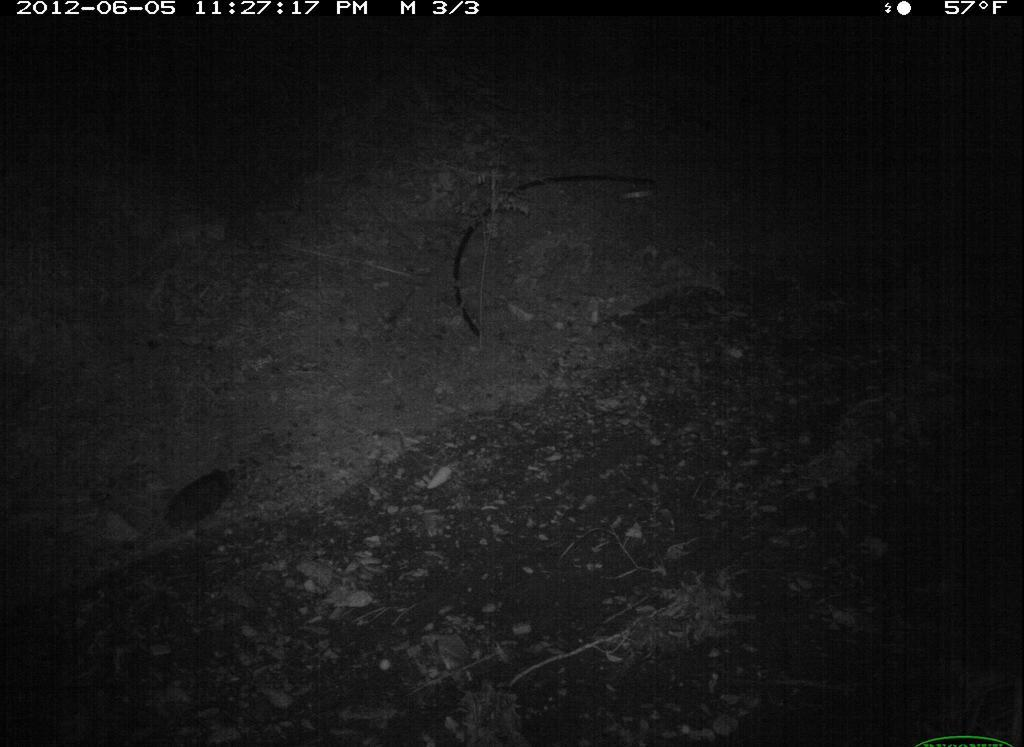opossum: (126, 464, 246, 549)
